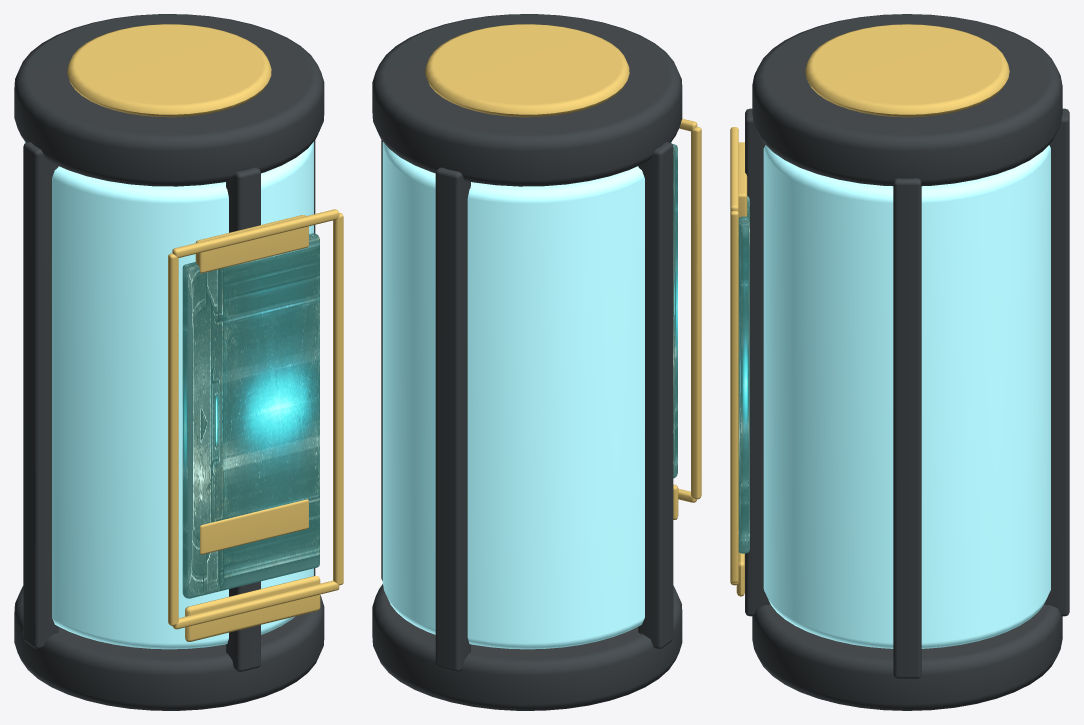
Rendered from hp_pickup_energy_cell_amber.glb.
3 views of the same model, side by side, from view 1: azimuth 30°, elevation 25°; view 2: azimuth 150°, elevation 25°; view 3: azimuth 270°, elevation 25° (orthographic).
Parts seen in each view (by area): view 1: pickup_energy_cell_amber_transparent_outer_energy_shell, pickup_energy_cell_amber_charge_window_image2_face, pickup_energy_cell_amber_top_cap, pickup_energy_cell_amber_bottom_cap, pickup_energy_cell_amber_top_gold_contact_ring, pickup_energy_cell_amber_guard_rail_3, pickup_energy_cell_amber_front_window_frame_trim_left, pickup_energy_cell_amber_front_window_frame_trim_right, pickup_energy_cell_amber_gold_identity_band_art_color_block, pickup_energy_cell_amber_guard_rail_4, pickup_energy_cell_amber_gold_contact_bottom, pickup_energy_cell_amber_gold_contact_top (+2 smaller); view 2: pickup_energy_cell_amber_transparent_outer_energy_shell, pickup_energy_cell_amber_top_cap, pickup_energy_cell_amber_bottom_cap, pickup_energy_cell_amber_guard_rail_2, pickup_energy_cell_amber_top_gold_contact_ring, pickup_energy_cell_amber_guard_rail_3, pickup_energy_cell_amber_front_window_frame_trim_left, pickup_energy_cell_amber_charge_window_image2_face, pickup_energy_cell_amber_guard_rail_1; view 3: pickup_energy_cell_amber_transparent_outer_energy_shell, pickup_energy_cell_amber_top_cap, pickup_energy_cell_amber_bottom_cap, pickup_energy_cell_amber_top_gold_contact_ring, pickup_energy_cell_amber_guard_rail_1, pickup_energy_cell_amber_guard_rail_2, pickup_energy_cell_amber_guard_rail_4, pickup_energy_cell_amber_charge_window_image2_face, pickup_energy_cell_amber_front_window_frame_trim_right, pickup_energy_cell_amber_front_window_frame_trim_top, pickup_energy_cell_amber_gold_contact_top.
Part boxes in pixels (left/top/right/bottom): pickup_energy_cell_amber_transparent_outer_energy_shell: left=24, top=142, right=313, bottom=649; pickup_energy_cell_amber_charge_window_image2_face: left=182, top=233, right=319, bottom=598; pickup_energy_cell_amber_top_cap: left=14, top=14, right=324, bottom=186; pickup_energy_cell_amber_bottom_cap: left=14, top=586, right=324, bottom=710; pickup_energy_cell_amber_top_gold_contact_ring: left=67, top=24, right=271, bottom=117; pickup_energy_cell_amber_guard_rail_3: left=23, top=142, right=58, bottom=648; pickup_energy_cell_amber_front_window_frame_trim_left: left=168, top=253, right=178, bottom=625; pickup_energy_cell_amber_front_window_frame_trim_right: left=333, top=213, right=343, bottom=585; pickup_energy_cell_amber_gold_identity_band_art_color_block: left=185, top=576, right=320, bottom=641; pickup_energy_cell_amber_guard_rail_4: left=226, top=167, right=260, bottom=671; pickup_energy_cell_amber_gold_contact_bottom: left=200, top=499, right=308, bottom=554; pickup_energy_cell_amber_gold_contact_top: left=195, top=215, right=308, bottom=273; pickup_energy_cell_amber_transparent_outer_energy_shell: left=382, top=141, right=671, bottom=649; pickup_energy_cell_amber_top_cap: left=372, top=14, right=682, bottom=186; pickup_energy_cell_amber_bottom_cap: left=372, top=584, right=682, bottom=710; pickup_energy_cell_amber_guard_rail_2: left=435, top=167, right=470, bottom=671; pickup_energy_cell_amber_top_gold_contact_ring: left=425, top=24, right=629, bottom=117; pickup_energy_cell_amber_guard_rail_3: left=638, top=142, right=673, bottom=648; pickup_energy_cell_amber_front_window_frame_trim_left: left=691, top=127, right=701, bottom=499; pickup_energy_cell_amber_charge_window_image2_face: left=672, top=144, right=677, bottom=478; pickup_energy_cell_amber_guard_rail_1: left=381, top=140, right=382, bottom=580; pickup_energy_cell_amber_transparent_outer_energy_shell: left=763, top=145, right=1050, bottom=648; pickup_energy_cell_amber_top_cap: left=752, top=14, right=1062, bottom=186; pickup_energy_cell_amber_bottom_cap: left=752, top=604, right=1062, bottom=710; pickup_energy_cell_amber_top_gold_contact_ring: left=805, top=24, right=1009, bottom=117; pickup_energy_cell_amber_guard_rail_1: left=893, top=178, right=921, bottom=678; pickup_energy_cell_amber_guard_rail_2: left=1044, top=108, right=1069, bottom=616; pickup_energy_cell_amber_guard_rail_4: left=745, top=108, right=770, bottom=616; pickup_energy_cell_amber_charge_window_image2_face: left=738, top=196, right=749, bottom=553; pickup_energy_cell_amber_front_window_frame_trim_right: left=730, top=211, right=738, bottom=582; pickup_energy_cell_amber_front_window_frame_trim_top: left=730, top=127, right=738, bottom=211; pickup_energy_cell_amber_gold_contact_top: left=738, top=142, right=747, bottom=217.
Size of the model in its own units: 0.46 by 0.932 by 0.481.
5 materials, 1 textured.
